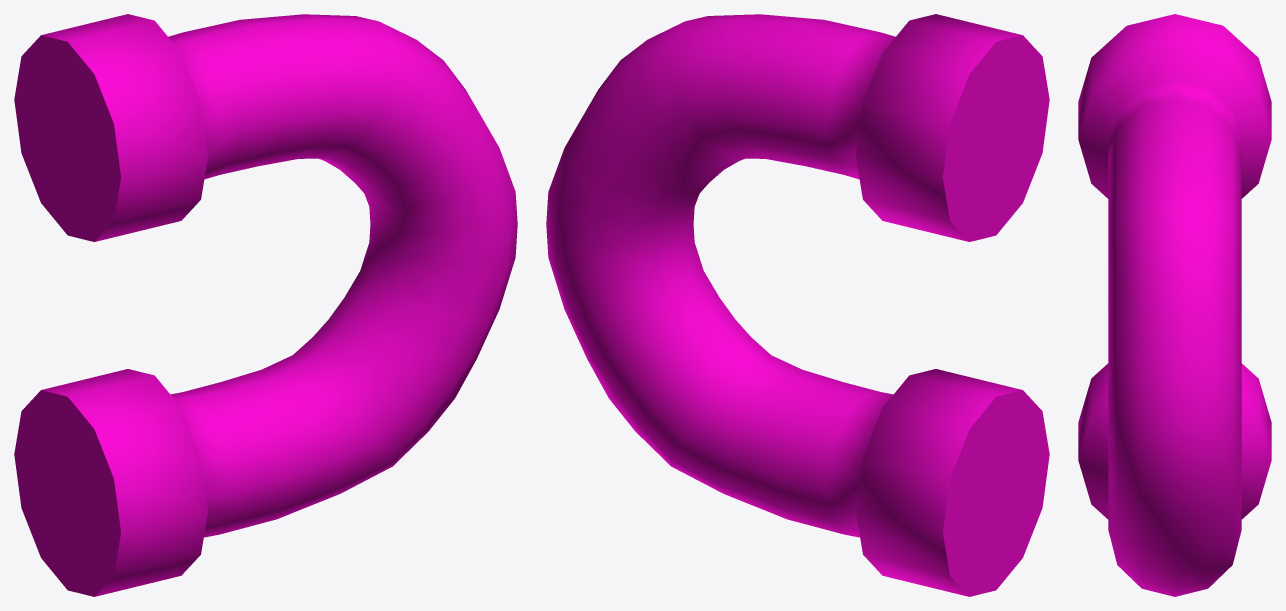
The model's file is _ipe04_low.fbx.
The picture shows the model from 3 angles, left to right: view 1: azimuth 30°, elevation 25°; view 2: azimuth 150°, elevation 25°; view 3: azimuth 270°, elevation 25°; orthographic projection. The views are drawn at different scales.
Parts seen in each view (by area): view 1: Pipe04_low; view 2: Pipe04_low; view 3: Pipe04_low.
Part boxes in pixels (bbox=[...]): Pipe04_low: bbox=[14, 14, 517, 596]; Pipe04_low: bbox=[546, 14, 1049, 596]; Pipe04_low: bbox=[1078, 14, 1271, 596].
Size of the model in its own units: 16 by 19.06 by 6.73.
